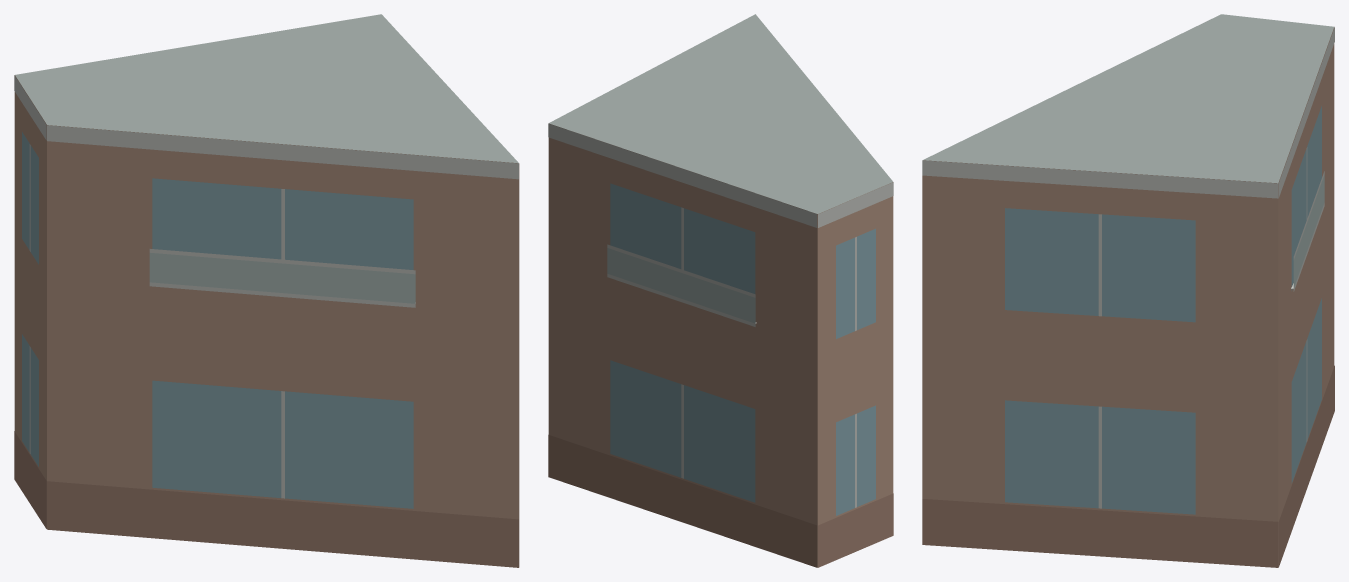
Rendered from survey-upis-32762643.glb.
3 renders of one model, left to right at view 1: azimuth 30°, elevation 25°; view 2: azimuth 150°, elevation 25°; view 3: azimuth 270°, elevation 25°, orthographic. The views are drawn at different scales.
Parts seen in each view (by area): view 1: survey-upis-32762643.tmp; view 2: survey-upis-32762643.tmp; view 3: survey-upis-32762643.tmp.
Boxes of the visible parts, x1,y1,x2,y2 form: survey-upis-32762643.tmp: (14, 14, 519, 567); survey-upis-32762643.tmp: (548, 14, 893, 567); survey-upis-32762643.tmp: (922, 14, 1334, 567).
Bounding box in the file's own units: 5.76 × 6.1 × 5.93.
